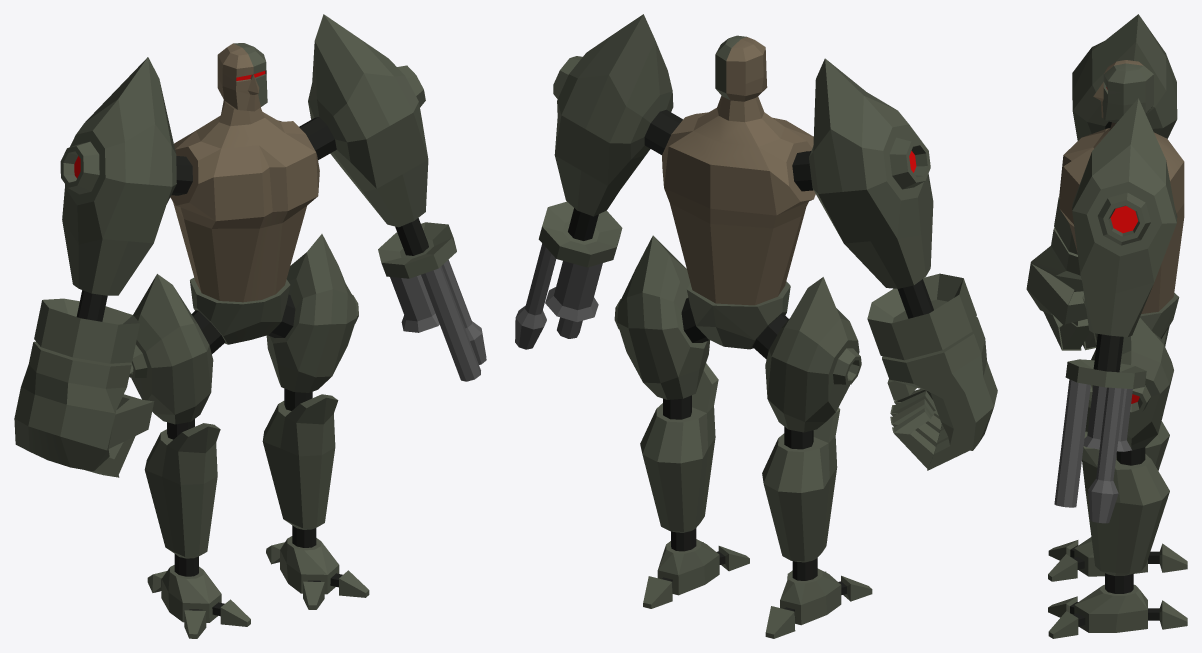
Rendered from comandante.fbx.
3 views of the same model, side by side, from view 1: azimuth 30°, elevation 25°; view 2: azimuth 150°, elevation 25°; view 3: azimuth 270°, elevation 25° (orthographic). The views are drawn at different scales.
Visible parts, largest first — view 1: boss_body, boss_fist; view 2: boss_body, boss_fist; view 3: boss_body, boss_fist.
Boxes of the visible parts, box(x1,y1,x2,y2) form: boss_body: box(34, 14, 486, 638); boss_fist: box(14, 341, 154, 477); boss_body: box(515, 14, 976, 638); boss_fist: box(882, 317, 997, 470); boss_body: box(1048, 14, 1187, 638); boss_fist: box(1026, 227, 1096, 350).
Size of the model in its own units: 6.66 by 7.61 by 2.06.
